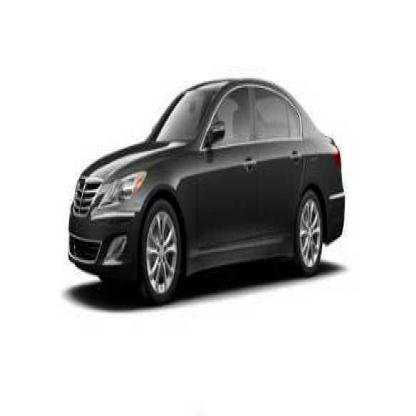Vehicle: (68, 76, 347, 309)
